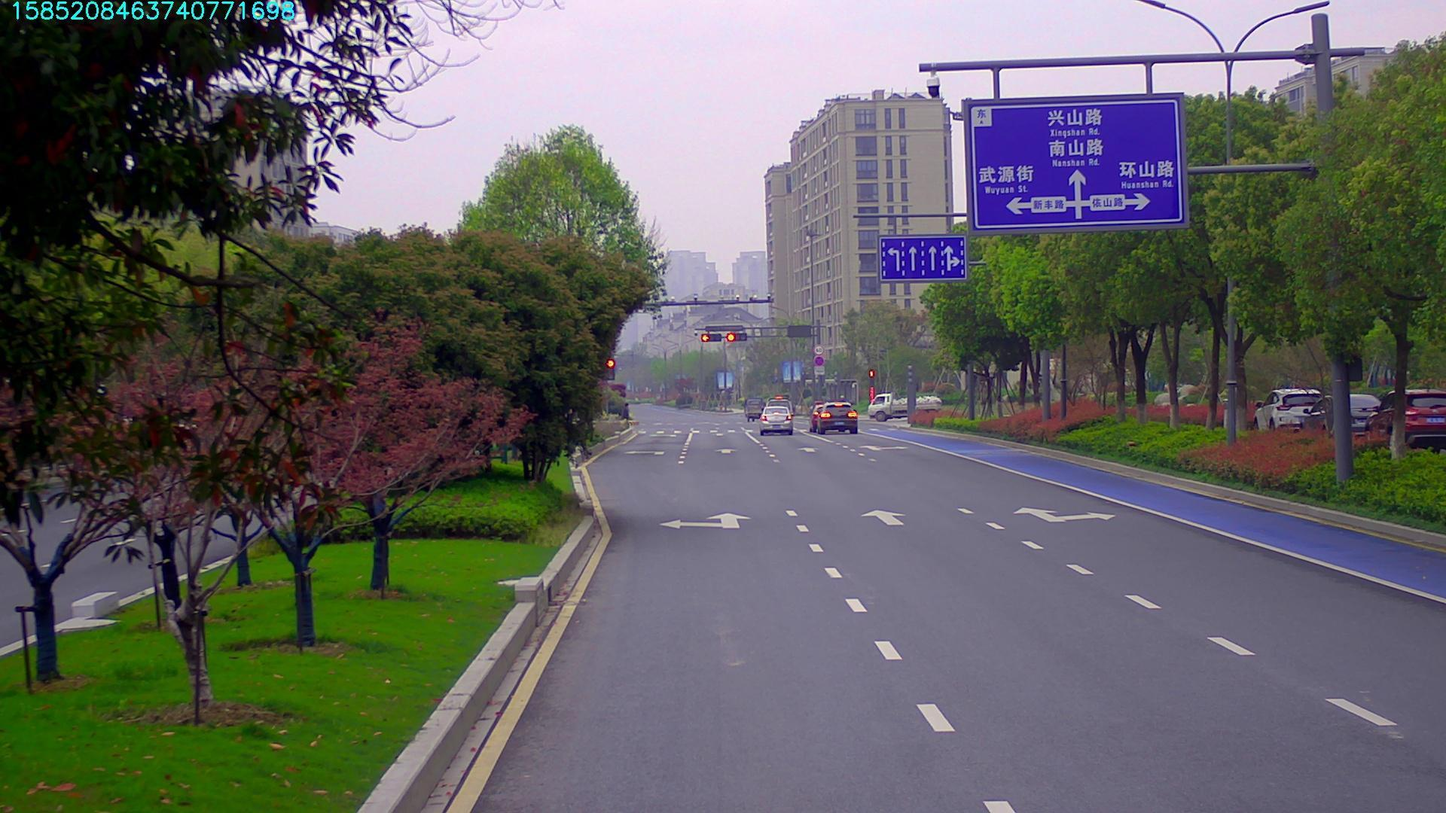red: (696, 330, 717, 343), (724, 330, 746, 341)
